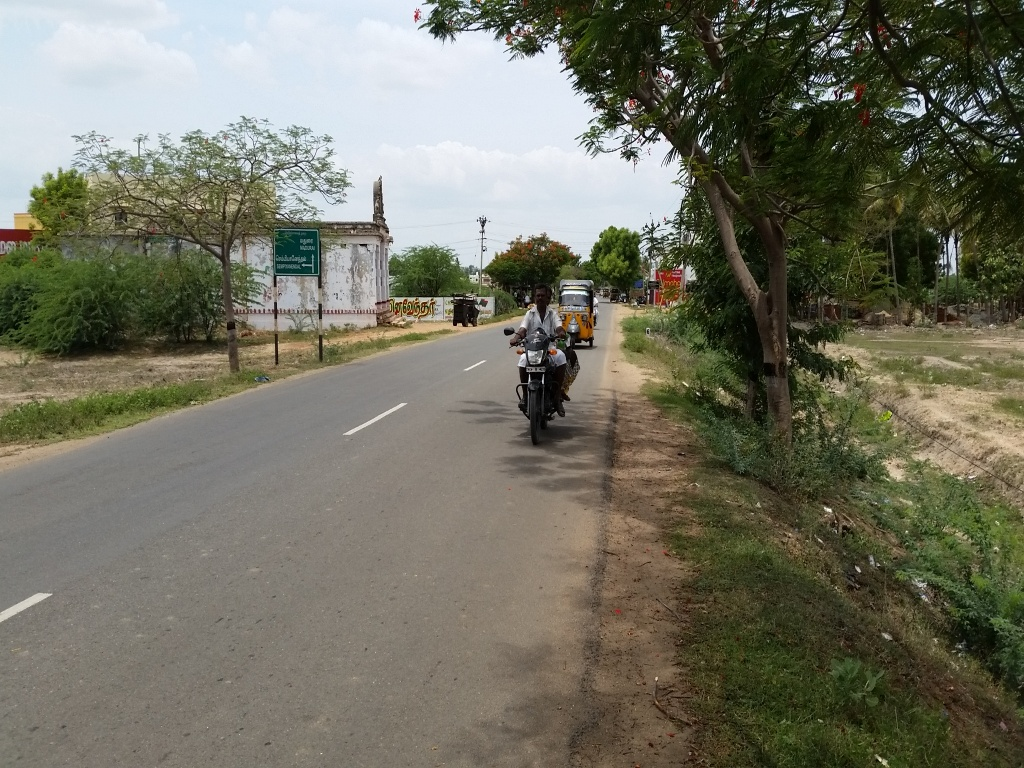biker: (492, 261, 596, 457)
nohelmet: (530, 280, 557, 317)
